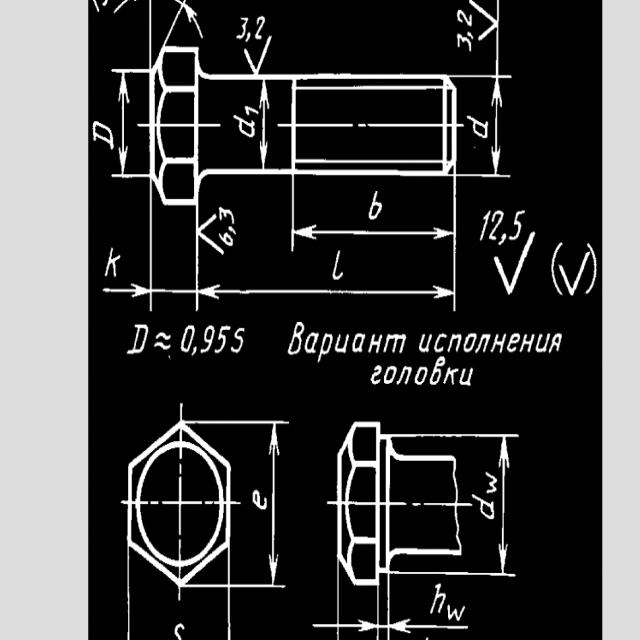marking_line: (101, 208, 461, 312), (192, 209, 458, 312), (291, 175, 458, 258), (232, 419, 291, 592), (464, 431, 521, 578), (315, 587, 470, 637), (459, 69, 513, 179), (89, 0, 201, 46), (111, 67, 148, 181), (254, 80, 273, 170)
numeric: (470, 494, 500, 523), (90, 120, 115, 151), (465, 111, 491, 139), (127, 324, 150, 354), (233, 112, 254, 138), (489, 210, 506, 241), (431, 583, 447, 615), (509, 210, 525, 241), (199, 325, 215, 355), (215, 324, 231, 353), (182, 323, 197, 353), (369, 189, 382, 223), (482, 466, 497, 495), (251, 489, 270, 511), (479, 208, 491, 241), (231, 325, 245, 352), (445, 604, 465, 622), (332, 251, 344, 281), (234, 15, 247, 42), (456, 33, 473, 52), (456, 8, 473, 27), (219, 204, 235, 224), (172, 622, 187, 640), (218, 231, 234, 247), (255, 17, 265, 41), (245, 107, 259, 117)
special_symbol: (494, 230, 533, 297), (557, 252, 590, 299), (243, 31, 272, 73), (469, 0, 497, 42), (199, 211, 224, 257), (546, 242, 561, 298), (583, 241, 598, 293), (154, 331, 171, 353)
